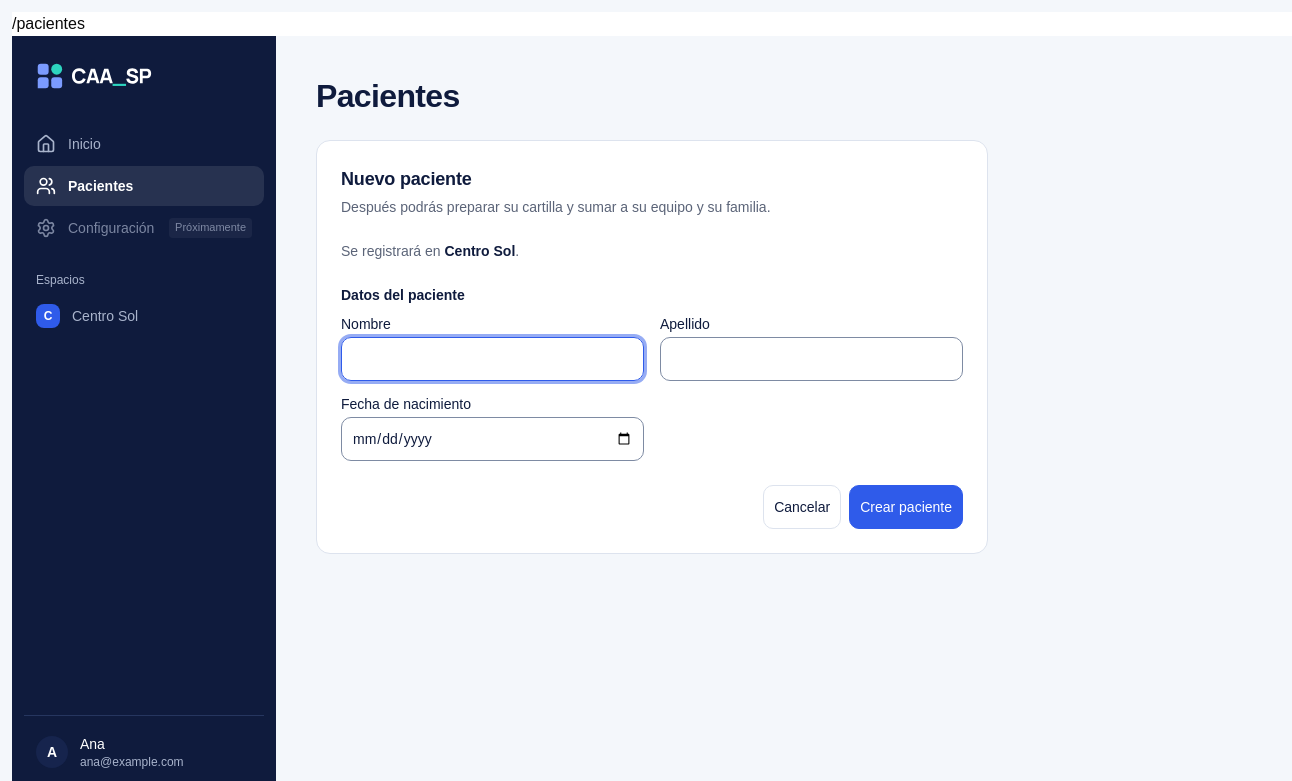
Test: after registering › can be dismissed and stays in the patient workspace
Type "Noa" into the field labelled "Nombre" at point(492, 359), box x1=341 y1=337 x2=644 y2=381
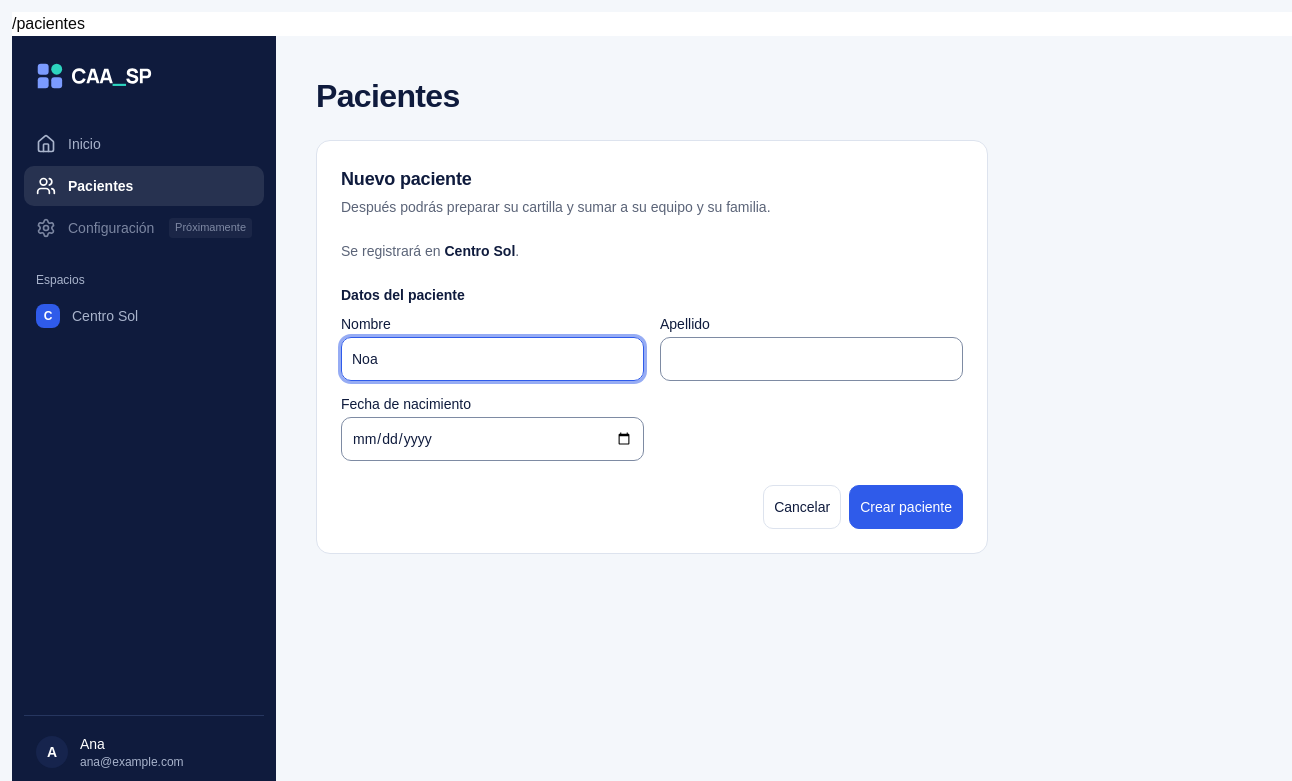
Type "Díaz" into the field labelled "Apellido" at point(812, 359), box x1=660 y1=337 x2=963 y2=381
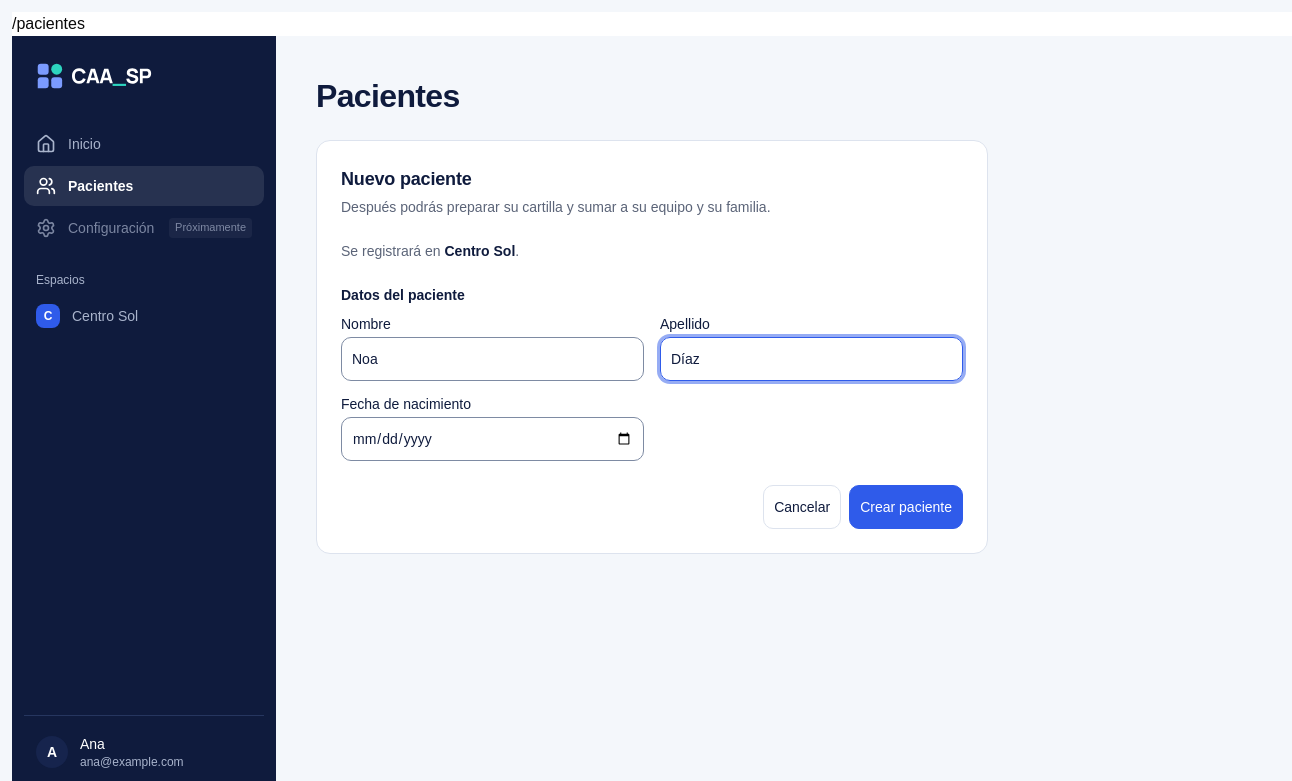
Type "2019-01-01" into the date field labelled "Fecha de nacimiento" at point(492, 439), box x1=341 y1=417 x2=644 y2=461
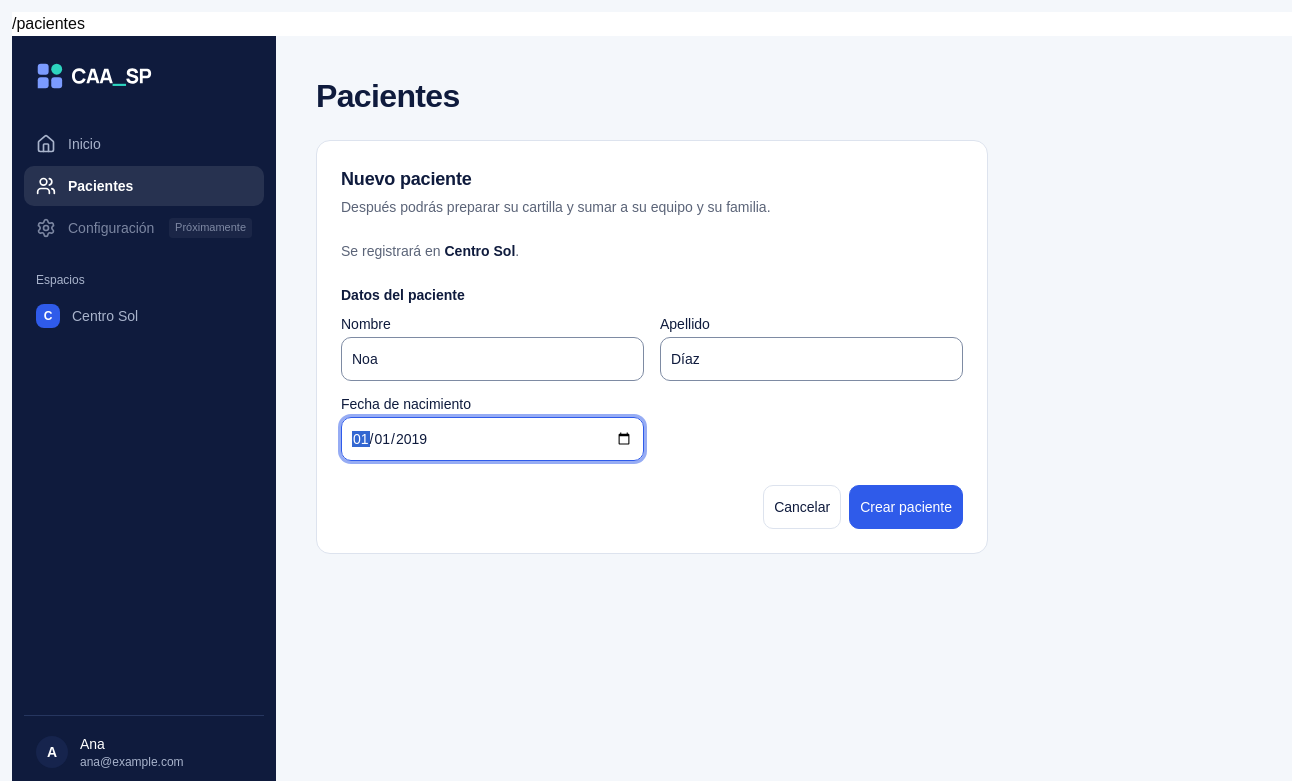
Click the button "Crear paciente" at point(906, 507), box x1=849 y1=485 x2=963 y2=529
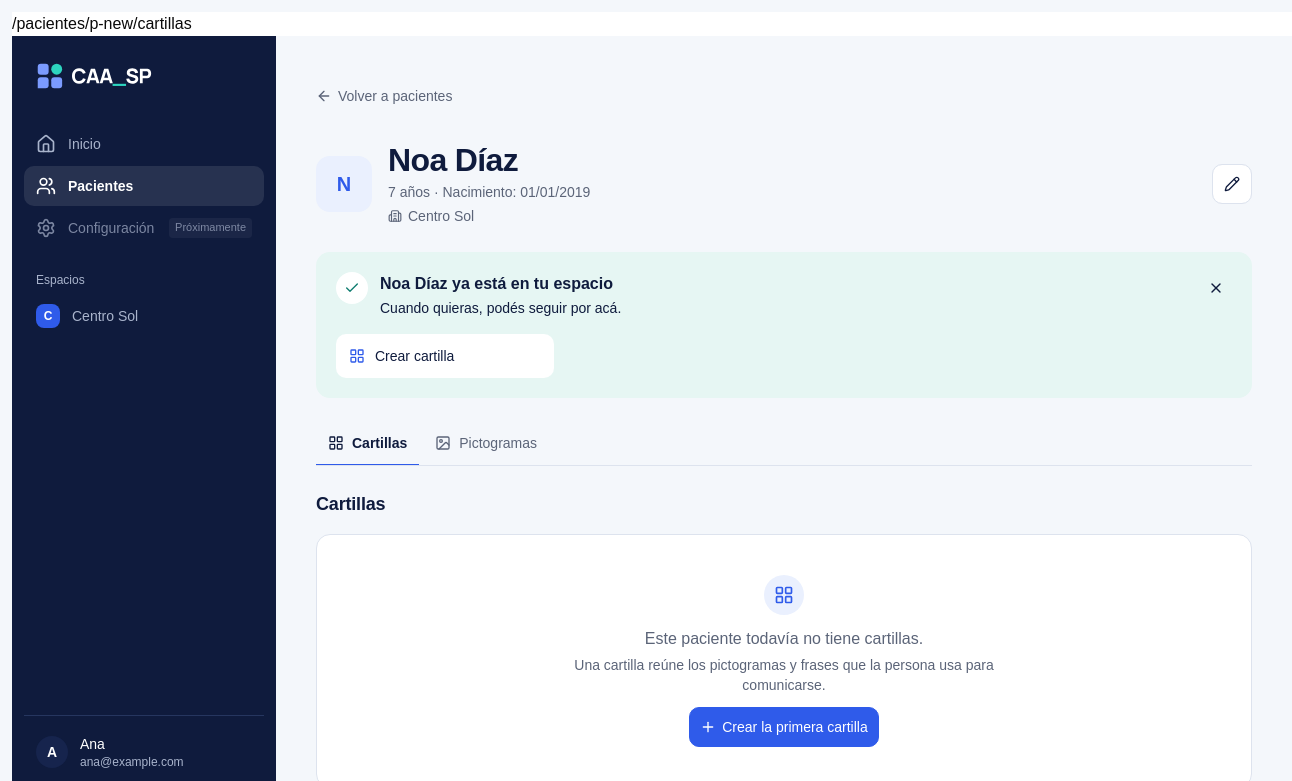
Click the button named "Cerrar confirmación" at point(1216, 288), box x1=1196 y1=268 x2=1236 y2=308
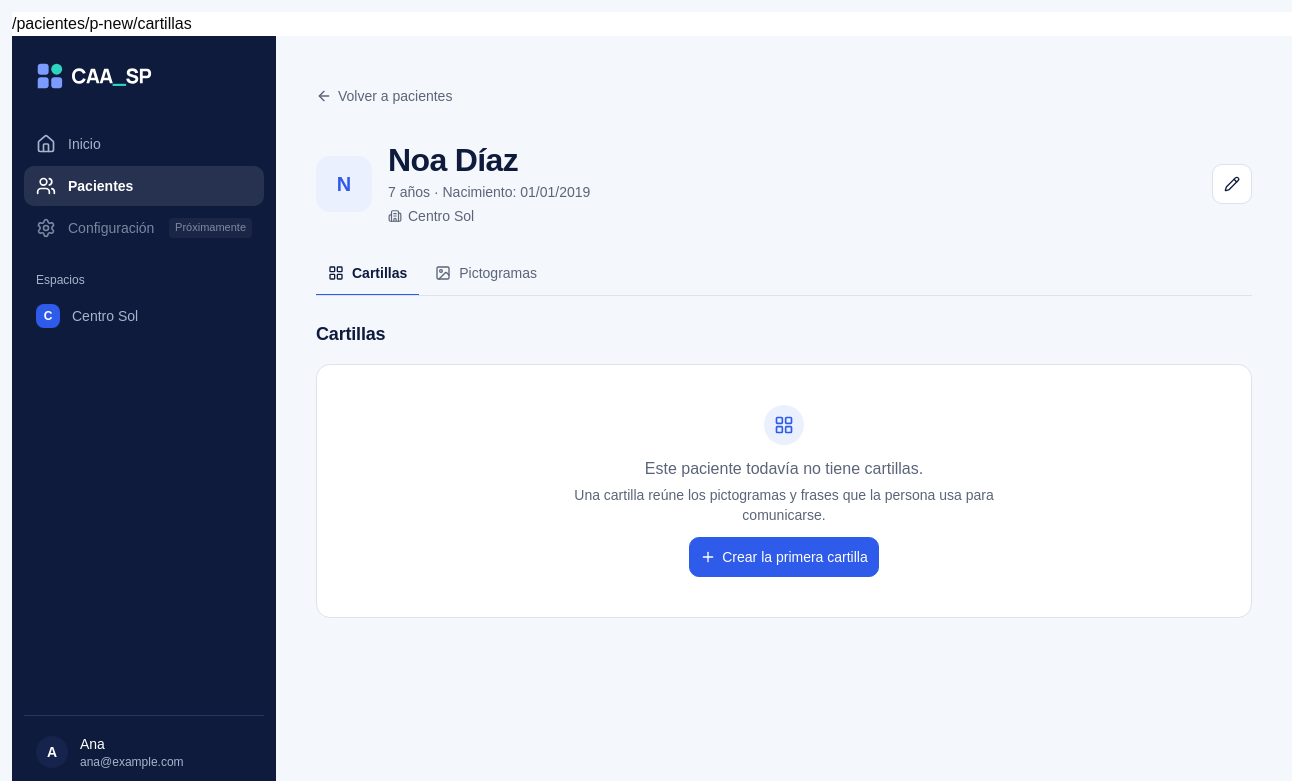
Check: the text with test id "location" reads "/pacientes/p-new/cartillas", box x1=12 y1=15 x2=192 y2=32
Check: the heading "Noa Díaz ya está en tu espacio" is gone
